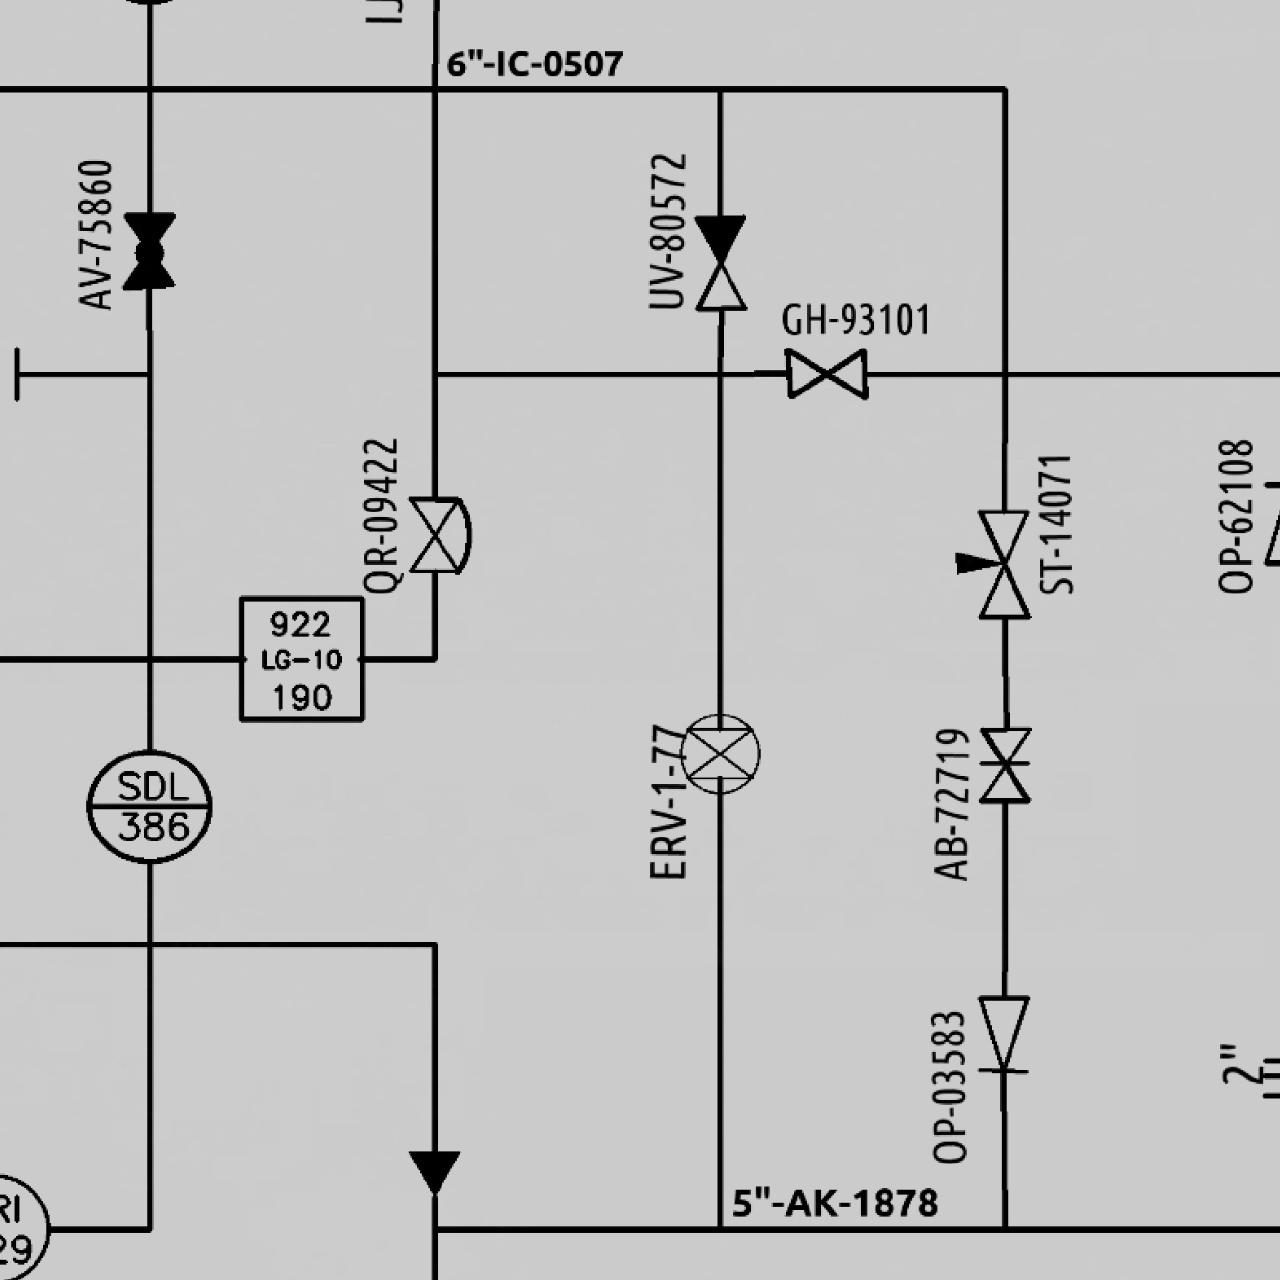Half closed valve: (688, 209, 750, 314)
